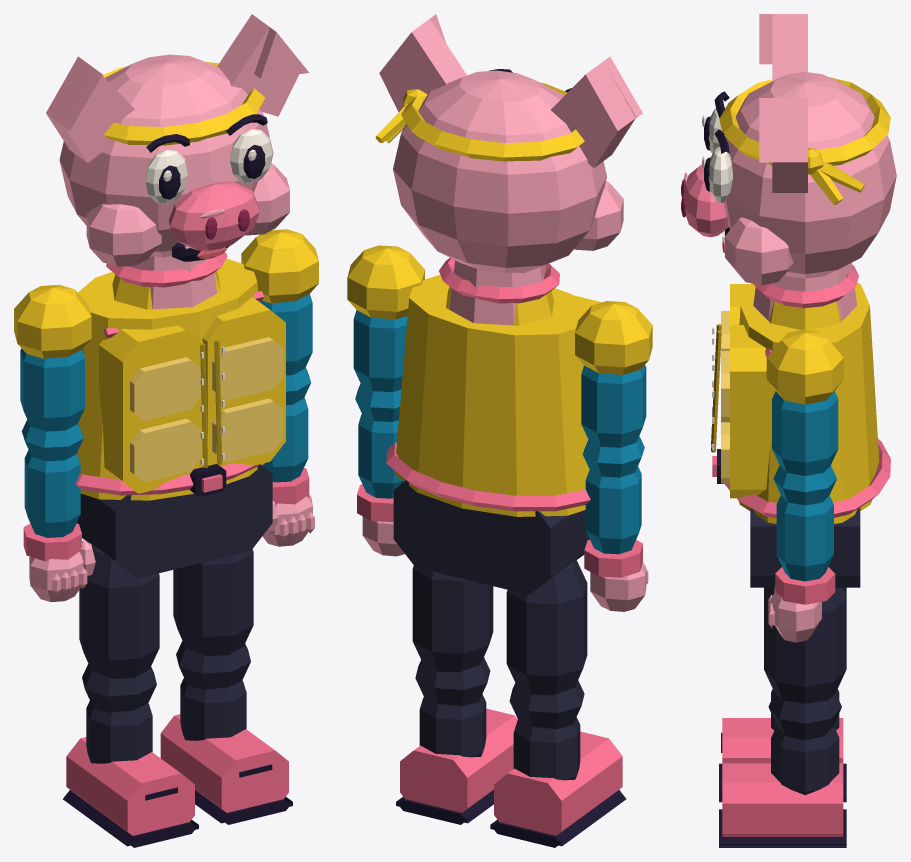
The picture shows the model from 3 angles, left to right: view 1: azimuth 30°, elevation 25°; view 2: azimuth 150°, elevation 25°; view 3: azimuth 270°, elevation 25°; orthographic projection.
Parts seen in each view (by area): view 1: head_fur, torso_padded_vest, torso_vest_quilt, hips_trousers, thigh_r_trousers, shin_r_trim_belt_boots, shin_l_trim_belt_boots, thigh_l_trousers, forearm_r_shirt_sleeves, shin_r_trousers, shin_l_trousers, upperarm_r_padded_vest (+18 smaller); view 2: head_fur, torso_padded_vest, hips_trousers, thigh_r_trousers, shin_r_trim_belt_boots, thigh_l_trousers, shin_l_trim_belt_boots, shin_r_trousers, forearm_r_shirt_sleeves, shin_l_trousers, torso_trim_belt_boots, upperarm_r_padded_vest (+12 smaller); view 3: head_fur, torso_padded_vest, shin_l_trim_belt_boots, thigh_l_trousers, forearm_l_shirt_sleeves, shin_l_trousers, upperarm_l_shirt_sleeves, head_padded_vest, upperarm_l_padded_vest, hips_trousers, torso_trim_belt_boots, shin_r_trim_belt_boots (+9 smaller).
Part boxes in pixels (x1,y1,x2,y2): head_fur: (46, 14, 309, 266); torso_padded_vest: (77, 258, 285, 500); torso_vest_quilt: (130, 337, 283, 482); hips_trousers: (77, 464, 272, 578); thigh_r_trousers: (79, 544, 159, 678); shin_r_trim_belt_boots: (66, 737, 194, 835); shin_l_trim_belt_boots: (160, 714, 288, 812); thigh_l_trousers: (173, 549, 253, 655); forearm_r_shirt_sleeves: (22, 420, 83, 537); shin_r_trousers: (82, 664, 156, 763); shin_l_trousers: (176, 641, 250, 740); upperarm_r_padded_vest: (14, 284, 91, 358); head_fur: (379, 14, 642, 273); torso_padded_vest: (394, 274, 601, 516); hips_trousers: (393, 480, 589, 594); thigh_r_trousers: (506, 560, 587, 695); shin_r_trim_belt_boots: (494, 731, 622, 835); thigh_l_trousers: (412, 565, 493, 672); shin_l_trim_belt_boots: (400, 708, 517, 812); shin_r_trousers: (509, 680, 584, 780); forearm_r_shirt_sleeves: (582, 436, 644, 554); shin_l_trousers: (415, 657, 490, 757); torso_trim_belt_boots: (386, 258, 590, 511); upperarm_r_padded_vest: (575, 301, 652, 375); head_fur: (684, 14, 896, 284); torso_padded_vest: (730, 282, 879, 523); shin_l_trim_belt_boots: (722, 763, 843, 836); thigh_l_trousers: (764, 587, 846, 703); forearm_l_shirt_sleeves: (773, 465, 836, 581); shin_l_trousers: (768, 693, 841, 795); upperarm_l_shirt_sleeves: (772, 391, 838, 475); head_padded_vest: (719, 77, 890, 204); upperarm_l_padded_vest: (766, 329, 843, 404); hips_trousers: (750, 507, 860, 587); torso_trim_belt_boots: (712, 264, 890, 518); shin_r_trim_belt_boots: (722, 718, 843, 763).
Size of the model in its own units: 0.7607 by 1.86 by 0.4804.
